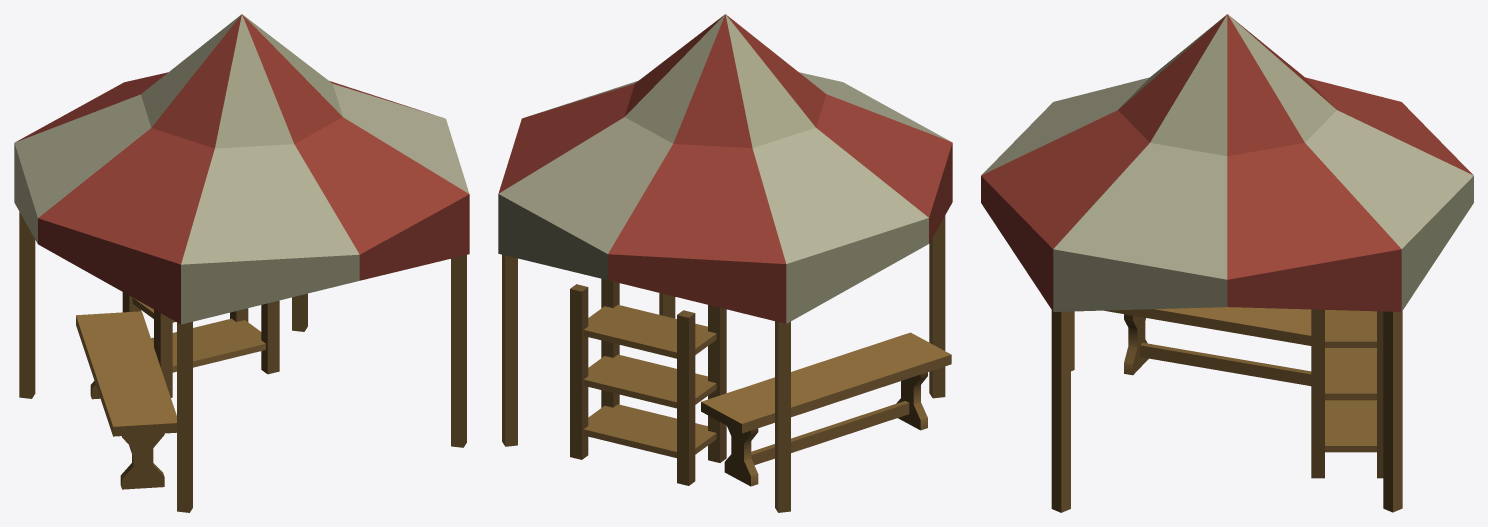
File: Tent_03.gltf
3 renders of one model, left to right at view 1: azimuth 30°, elevation 25°; view 2: azimuth 150°, elevation 25°; view 3: azimuth 270°, elevation 25°, orthographic. The views are drawn at different scales.
Parts seen in each view (by area): view 1: SF_Bld_Tent_03; view 2: SF_Bld_Tent_03; view 3: SF_Bld_Tent_03.
Part boxes in pixels (x1,y1,x2,y2): SF_Bld_Tent_03: [14, 14, 469, 512]; SF_Bld_Tent_03: [498, 14, 952, 512]; SF_Bld_Tent_03: [981, 14, 1473, 512].
Bounding box in the file's own units: 0.0685 × 0.0651 × 0.0685.
Materials: 1 (1 with a texture image).
